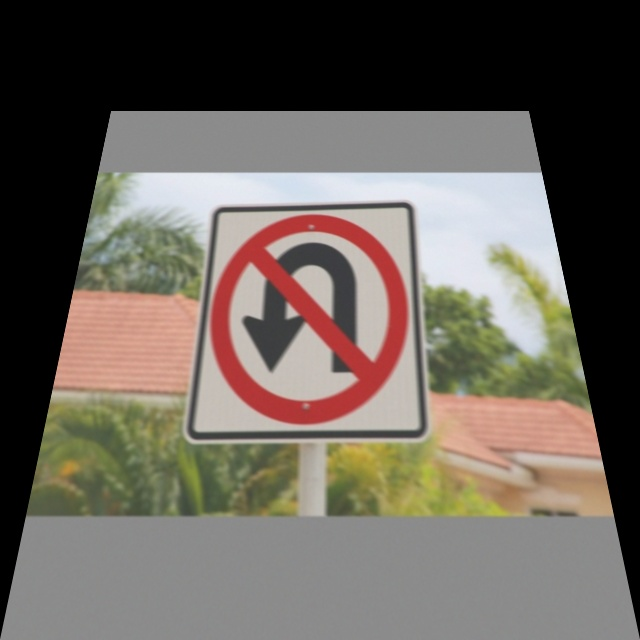U_Turn_Prohibited: (200, 209, 424, 428)
